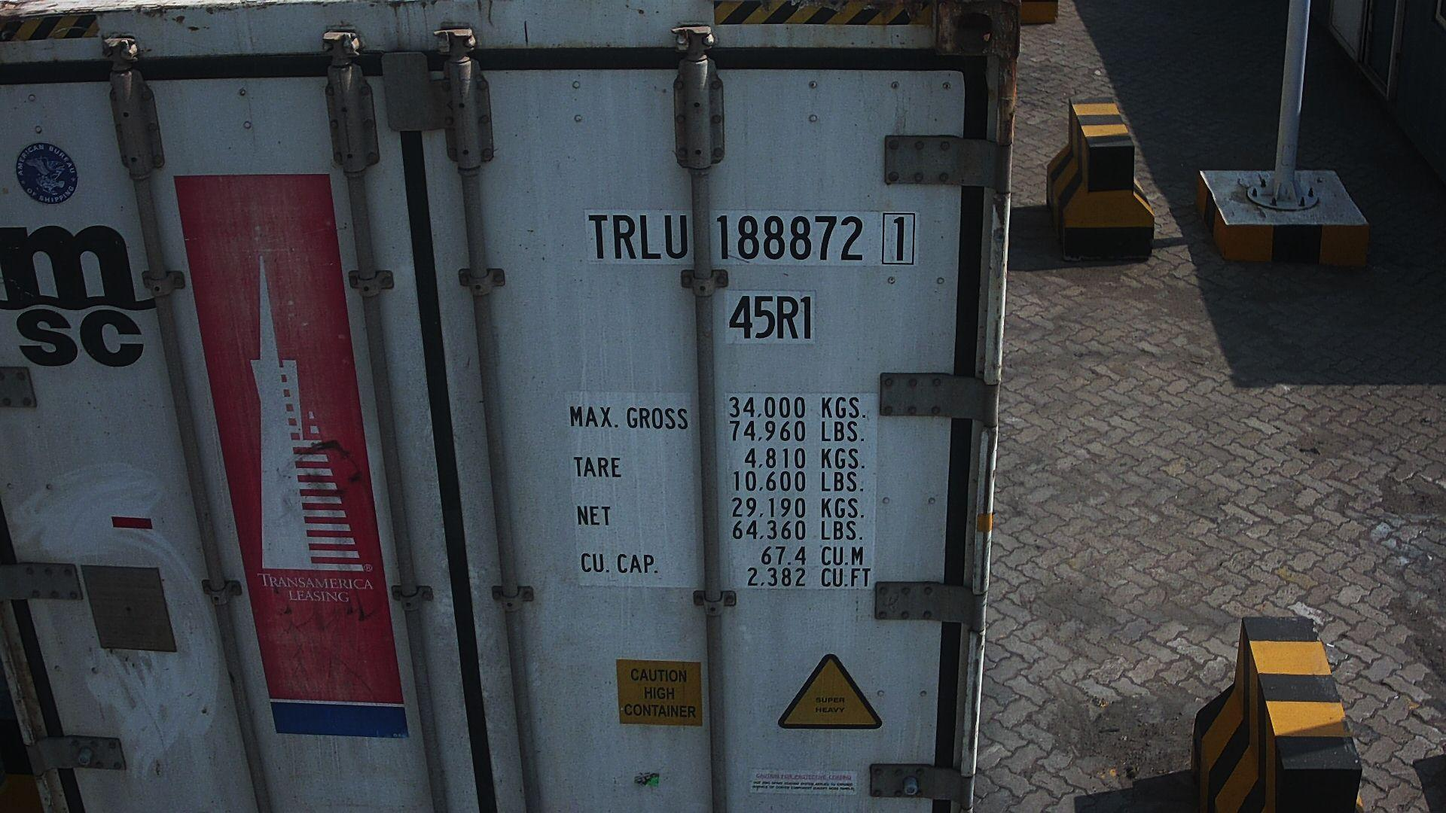container-numbers: (581, 208, 923, 269), (724, 291, 819, 346)
